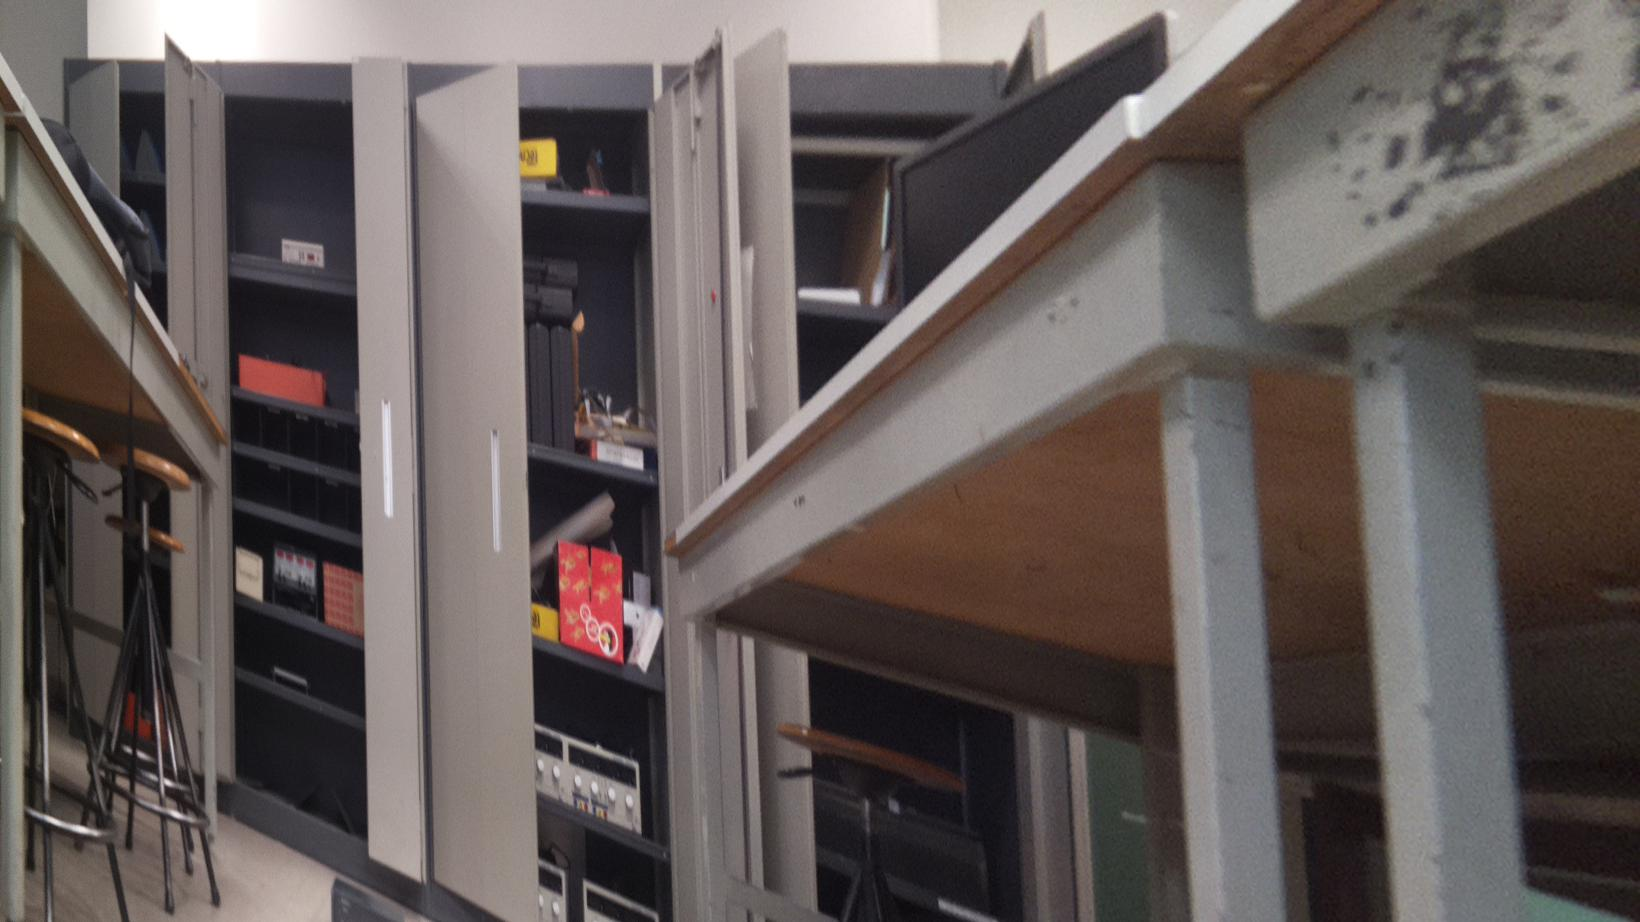medium: (327, 875, 399, 922)
